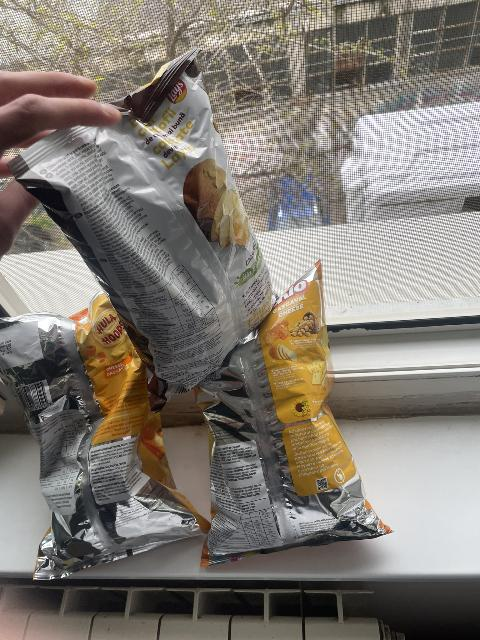Chio Cascaval 125g: (190, 258, 396, 570)
Chio Hula Hoops Cheese 70g: (3, 289, 216, 576)
Lays Beef Grilled Ribs 125g: (5, 48, 278, 411)
